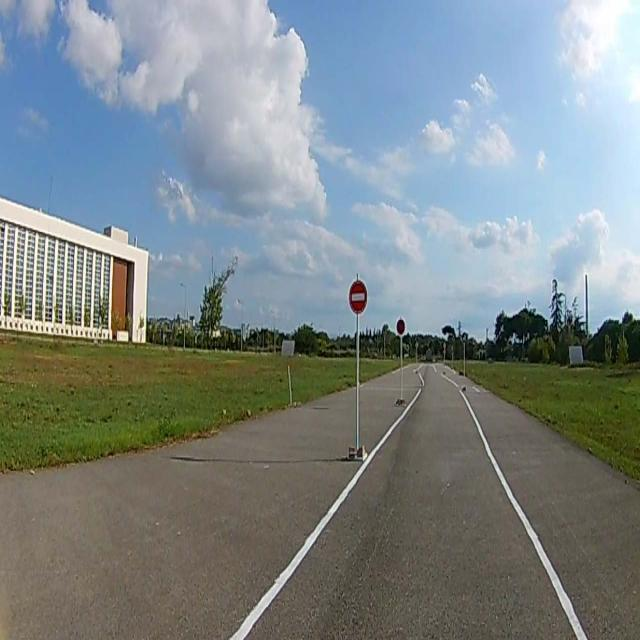girisyok: (349, 281, 367, 315)
